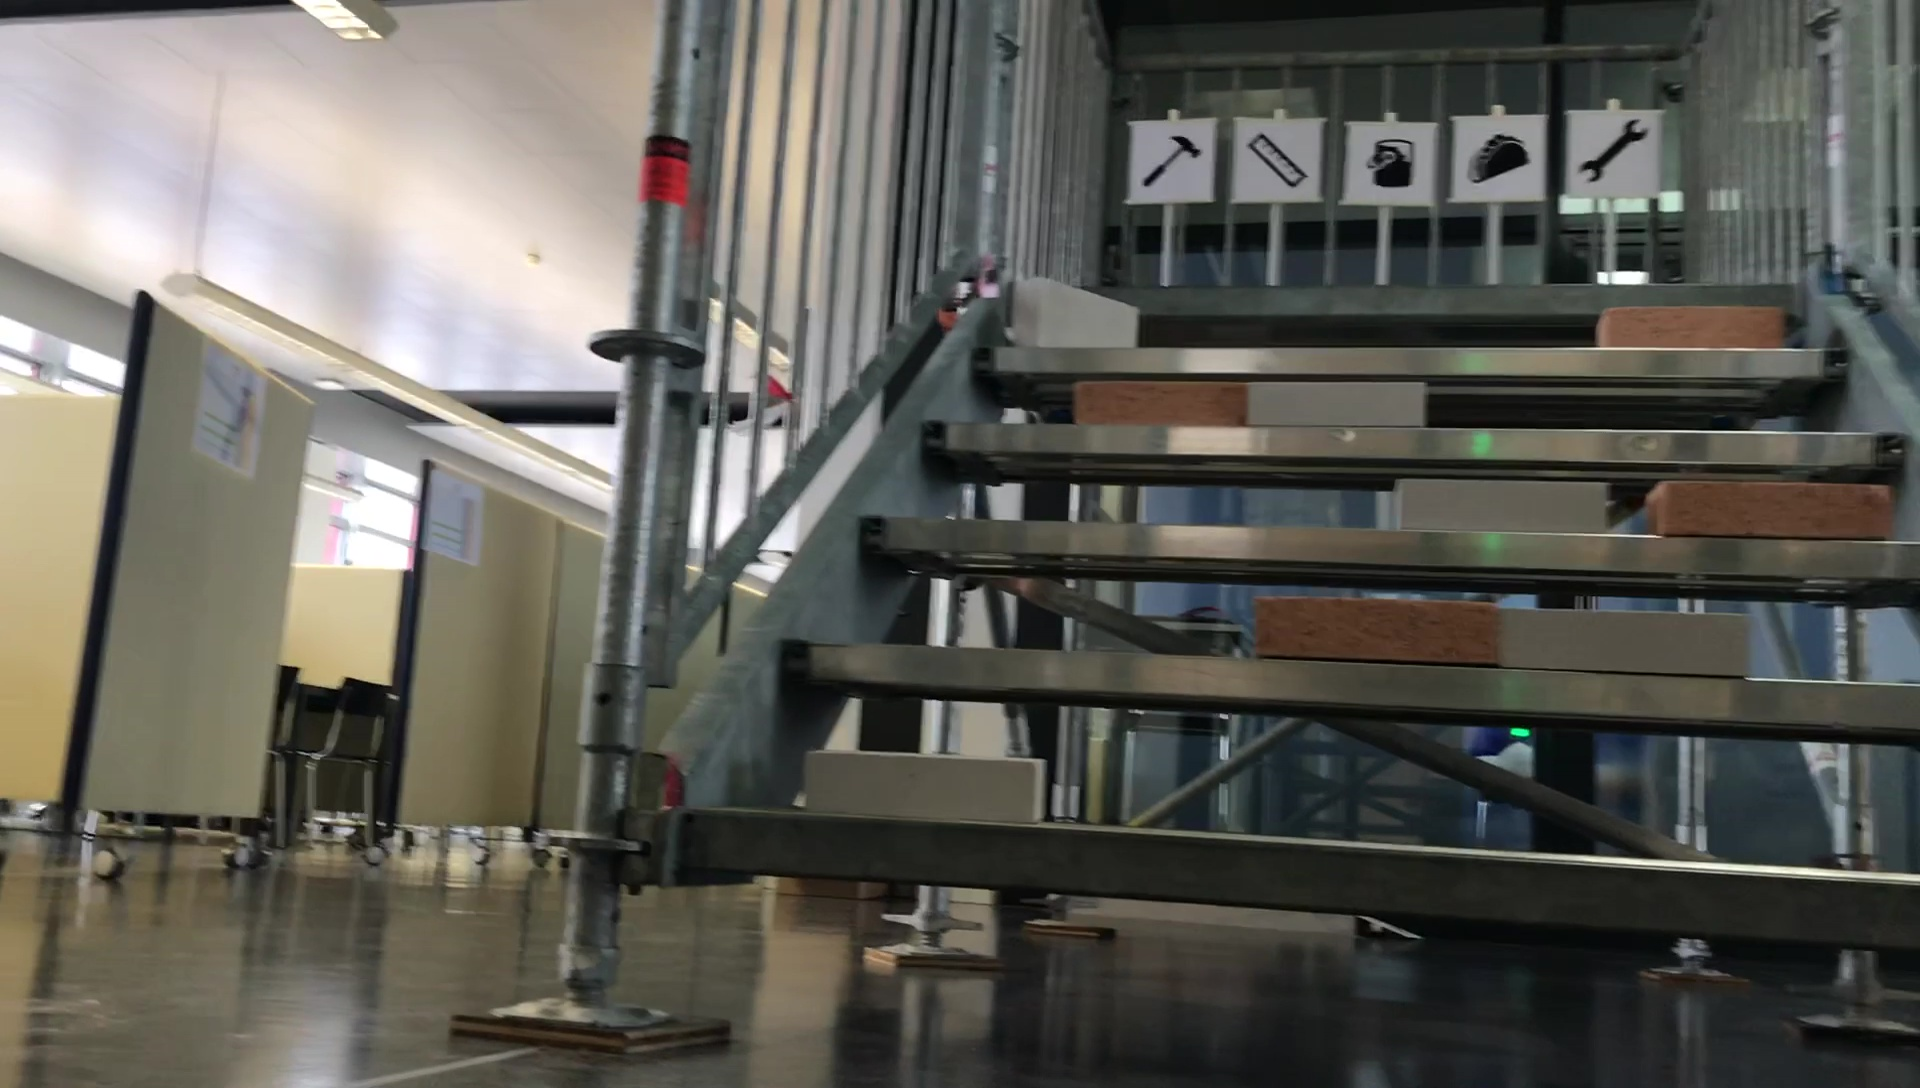brick: (1250, 593, 1499, 671), (1640, 473, 1894, 545), (1505, 611, 1764, 677), (796, 750, 1046, 816), (1395, 480, 1610, 539), (1240, 375, 1428, 434), (1598, 305, 1796, 349), (1073, 386, 1242, 434), (1007, 294, 1139, 351)
bucket: (1361, 136, 1418, 189)
edge: (675, 810, 1919, 909), (770, 641, 1916, 723), (866, 510, 1919, 580), (923, 419, 1888, 458), (981, 346, 1847, 381), (1004, 281, 1800, 317)
hammer: (1142, 131, 1203, 186)
ruler: (1240, 131, 1315, 183)
stairs: (582, 0, 1920, 1015)
steps: (644, 281, 1920, 874)
taco: (1476, 127, 1527, 182)
wrench: (1577, 113, 1648, 182)
